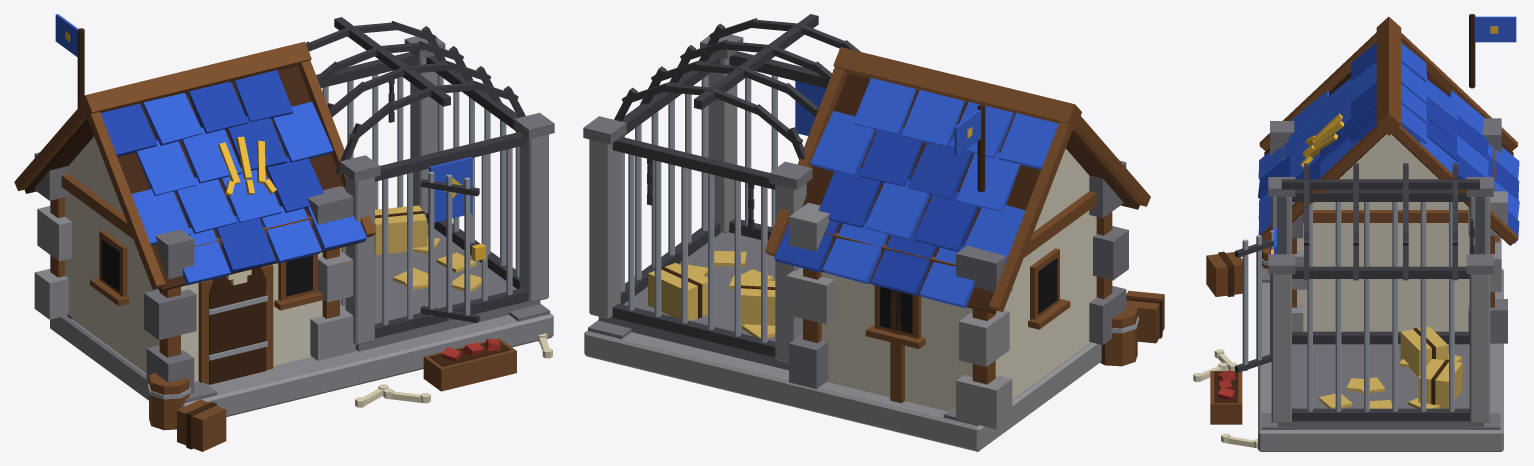
File: Bestiary.glb
3 views of the same model, side by side, from view 1: azimuth 30°, elevation 25°; view 2: azimuth 150°, elevation 25°; view 3: azimuth 270°, elevation 25° (orthographic). The views are drawn at different scales.
Parts seen in each view (by area): view 1: Bestiary; view 2: Bestiary; view 3: Bestiary.
Part boxes in pixels (x1,y1,x2,y2): Bestiary: (14,14,554,451); Bestiary: (583,14,1164,451); Bestiary: (1193,14,1519,451).
Bounding box in the file's own units: 4.4 × 3.24 × 3.41.
